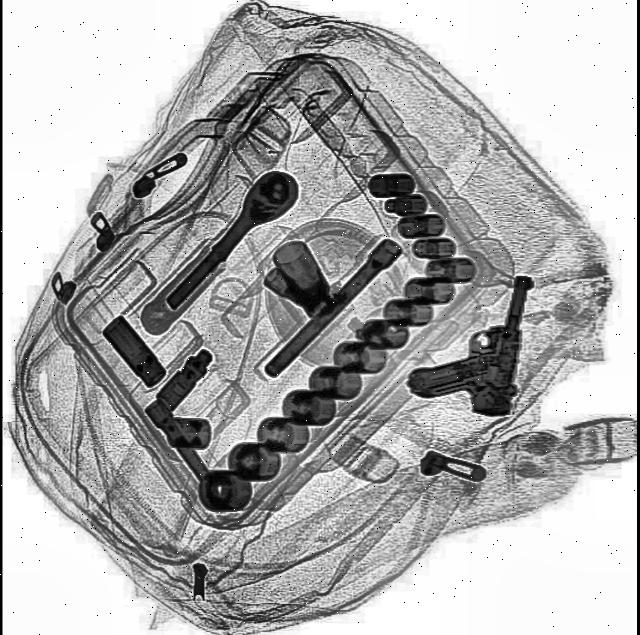Gun: (404, 252, 545, 423)
